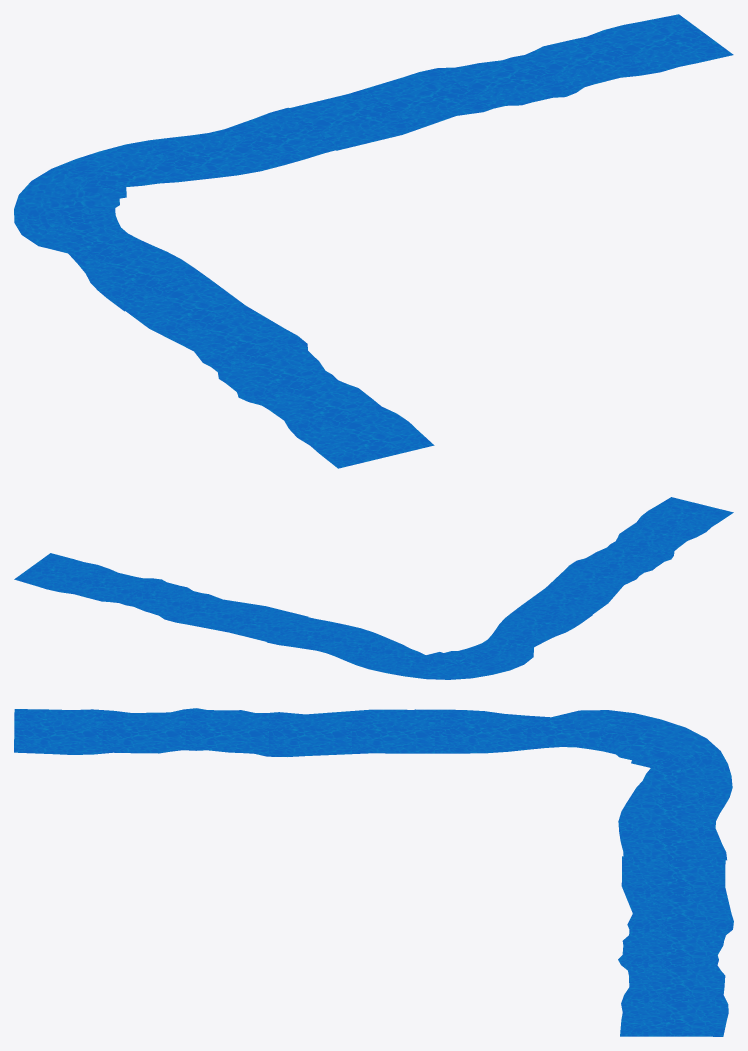
3 views of the same model, one above another, from view 1: azimuth 30°, elevation 25°; view 2: azimuth 150°, elevation 25°; view 3: azimuth 270°, elevation 25° (orthographic). The views are drawn at different scales.
Parts seen in each view (by area): view 1: sub13; view 2: sub13; view 3: sub13.
Boxes of the visible parts, bbox=[...] form: sub13: bbox=[14, 14, 733, 468]; sub13: bbox=[14, 497, 733, 679]; sub13: bbox=[14, 708, 733, 1036].
Size of the model in its own units: 9.19 by 0.000977 by 8.51.
Materials: 2 (2 with a texture image).
